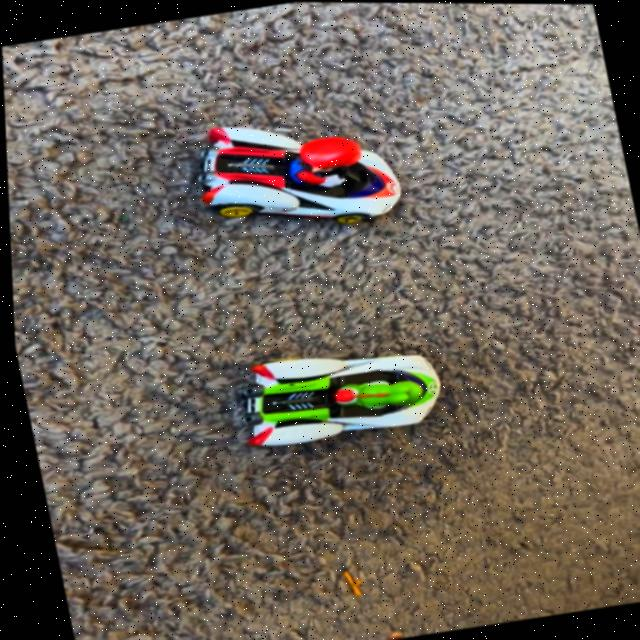mario: (176, 95, 429, 254)
yoshi: (222, 319, 467, 463)
